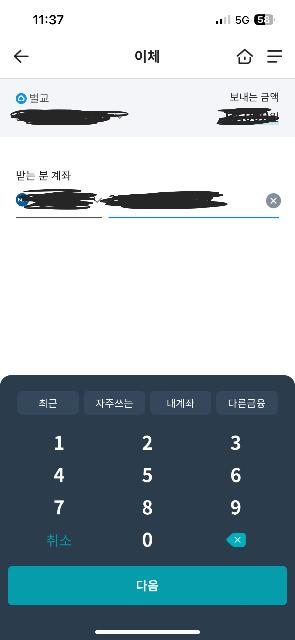Icon: (226, 533, 246, 547), (237, 48, 253, 64), (14, 48, 30, 62), (267, 49, 283, 62)
Image: (16, 92, 26, 104)
ImageButton: (266, 194, 282, 208)
Modal: (0, 376, 295, 640)
Text: (17, 172, 71, 180), (135, 48, 161, 64), (231, 93, 279, 101), (229, 399, 266, 409), (96, 399, 134, 408), (47, 534, 71, 548), (138, 578, 160, 592), (167, 398, 195, 408), (39, 398, 57, 408), (54, 468, 66, 482), (142, 500, 154, 514), (142, 434, 152, 450), (143, 468, 153, 484), (54, 500, 64, 516), (30, 94, 48, 102), (56, 434, 64, 452), (231, 436, 241, 450), (232, 468, 242, 482), (143, 532, 153, 546), (232, 501, 240, 515)
TextButton: (9, 565, 289, 605), (85, 390, 146, 416), (18, 390, 78, 414), (151, 391, 211, 414), (218, 391, 278, 413)
Toolbar: (0, 36, 295, 77)
UpperTaskBar: (0, 0, 295, 35)
